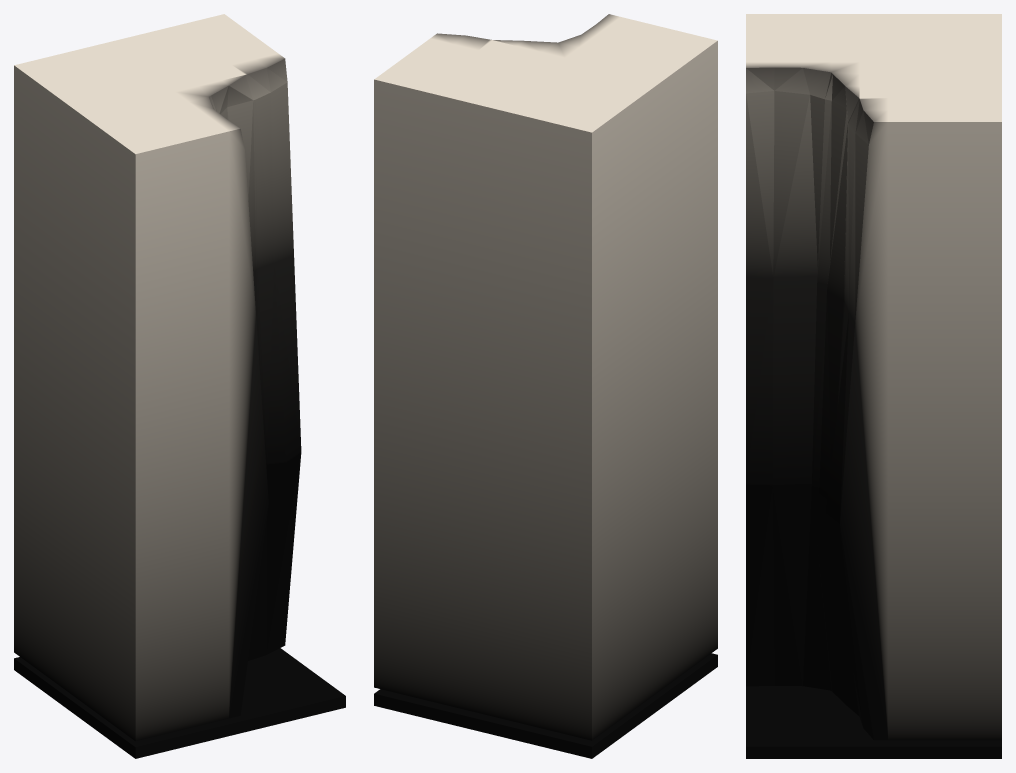
The model's file is SM_VKI_Ground_Cave_OXOO_Q01.fbx.
The picture shows the model from 3 angles, left to right: view 1: azimuth 30°, elevation 25°; view 2: azimuth 150°, elevation 25°; view 3: azimuth 270°, elevation 25°; orthographic projection. The views are drawn at different scales.
Visible parts, largest first — view 1: SM_VKI_Ground_Cave_OXOO_Q01.001; view 2: SM_VKI_Ground_Cave_OXOO_Q01.001; view 3: SM_VKI_Ground_Cave_OXOO_Q01.001.
Part boxes in pixels (x1=…): SM_VKI_Ground_Cave_OXOO_Q01.001: x1=14, y1=14, x2=345, y2=758; SM_VKI_Ground_Cave_OXOO_Q01.001: x1=374, y1=14, x2=717, y2=758; SM_VKI_Ground_Cave_OXOO_Q01.001: x1=746, y1=14, x2=1001, y2=758.
Bounding box in the file's own units: 1.5 × 4.12 × 1.5.
